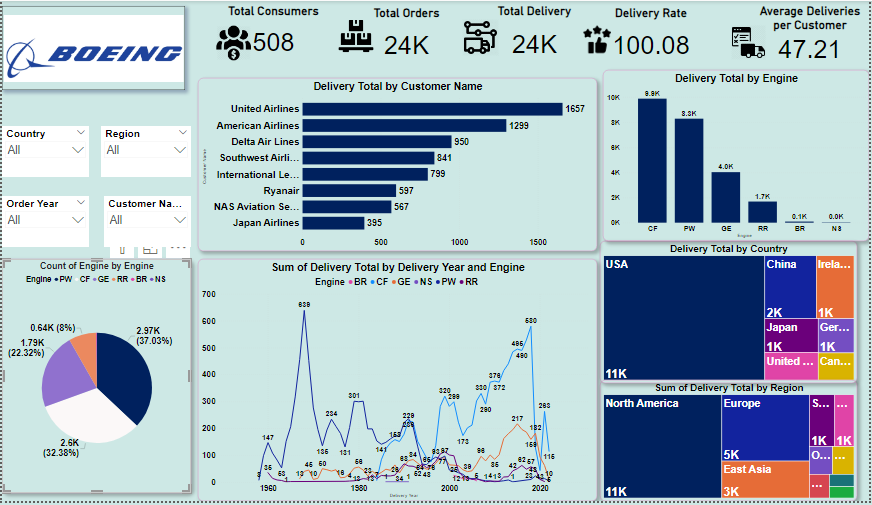

What the dashboard file says about the page in this screenshot:
{"tool":"powerbi","page":{"name":"Page 2","canvas":[2600,1500],"ordinal":0},"visuals":[{"type":"pieChart","fields":{"Category":["OrdersandDeliveries.Engine"],"Y":["CountNonNull(OrdersandDeliveries.Engine)"]},"box":[0,846,567,630],"z":2000},{"type":"treemap","title":"Delivery Total by Country","fields":{"Values":["Sum(OrdersandDeliveries.Delivery Total)"],"Group":["OrdersandDeliveries.Country"]},"box":[1794,720,771,426],"z":4000},{"type":"treemap","fields":{"Values":["Sum(OrdersandDeliveries.Delivery Total)"],"Group":["OrdersandDeliveries.Region"]},"box":[1794,1137,771,363],"z":5000},{"type":"barChart","title":"Delivery Total by Customer Name","fields":{"Y":["Sum(OrdersandDeliveries.Delivery Total)"],"Category":["OrdersandDeliveries.Customer Name"]},"box":[588,231,1197,519],"z":6000},{"type":"clusteredColumnChart","title":"Delivery Total by Engine","fields":{"Category":["OrdersandDeliveries.Engine"],"Y":["Sum(OrdersandDeliveries.Delivery Total)"]},"box":[1803,207,798,513],"z":7000},{"type":"lineChart","fields":{"Category":["OrdersandDeliveries.Delivery Year "],"Y":["Sum(OrdersandDeliveries.Delivery Total)"],"Series":["OrdersandDeliveries.Engine"]},"box":[588,774,1254,726],"z":8000},{"type":"card","title":"Total Consumers","fields":{"Values":["OrdersandDeliveries.Total Customers"]},"box":[642,9,345,174],"z":8001},{"type":"card","title":"Total Orders","fields":{"Values":["OrdersandDeliveries.Total Orders"]},"box":[1035,15,357,177],"z":8002},{"type":"card","title":"Total Delivery","fields":{"Values":["OrdersandDeliveries.Total Deliveries"]},"box":[1437,9,321,183],"z":8003},{"type":"card","title":"Average Deliveries per  Customer","fields":{"Values":["OrdersandDeliveries.Average Deliveries per Customer"]},"box":[2247,9,354,174],"z":8005},{"type":"card","title":"Delivery Rate","fields":{"Values":["OrdersandDeliveries.Delivery Rate"]},"box":[1794,15,306,177],"z":8006},{"type":"slicer","fields":{"Values":["OrdersandDeliveries.Country"]},"box":[0,375,261,153],"z":8007},{"type":"slicer","fields":{"Values":["OrdersandDeliveries.Region"]},"box":[297,375,270,153],"z":8008},{"type":"slicer","fields":{"Values":["OrdersandDeliveries.Order Year"]},"box":[0,585,261,153],"z":8009},{"type":"slicer","fields":{"Values":["OrdersandDeliveries.Customer Name"]},"box":[306,585,261,153],"z":8010},{"type":"image","box":[480,69,429,114],"z":8011},{"type":"image","box":[987,48,150,114],"z":8012},{"type":"image","box":[1359,48,153,123],"z":8013},{"type":"image","box":[2181,60,117,129],"z":8014},{"type":"image","box":[1698,69,174,93],"z":8015},{"type":"image","box":[0,15,549,252],"z":8016}]}

Visuals, with their boxes in screenshot pixels (x1, y1, x2, y2), scaled from the page's 2600x1500 canvas onto the 872x505 screenshot:
pieChart - OrdersandDeliveries.Engine x CountNonNull(OrdersandDeliveries.Engine): 0/285/190/497
"Delivery Total by Country" treemap: 602/242/860/386
treemap - Sum(OrdersandDeliveries.Delivery Total) x OrdersandDeliveries.Region: 602/383/860/504
"Delivery Total by Customer Name" barChart: 197/78/599/252
"Delivery Total by Engine" clusteredColumnChart: 605/70/871/242
lineChart - OrdersandDeliveries.Delivery Year  x Sum(OrdersandDeliveries.Delivery Total): 197/261/618/504
"Total Consumers" card: 215/3/331/62
"Total Orders" card: 347/5/467/65
"Total Delivery" card: 482/3/590/65
"Average Deliveries per  Customer" card: 754/3/871/62
"Delivery Rate" card: 602/5/704/65
slicer - OrdersandDeliveries.Country: 0/126/88/178
slicer - OrdersandDeliveries.Region: 100/126/190/178
slicer - OrdersandDeliveries.Order Year: 0/197/88/248
slicer - OrdersandDeliveries.Customer Name: 103/197/190/248
image: 161/23/305/62
image: 331/16/381/55
image: 456/16/507/58
image: 731/20/771/64
image: 569/23/628/55
image: 0/5/184/90
